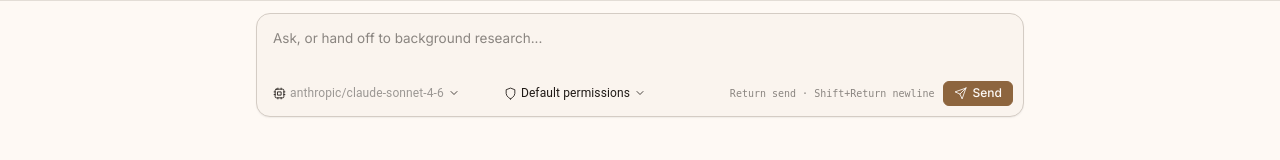
Scenario: MessageInput › renders the approval-level selector and sends the update payload
This screenshot has width=1280, height=160.
Press the mouse on the dropdown named "Approval level" at coordinates (575, 93), box [504, 86, 646, 100]
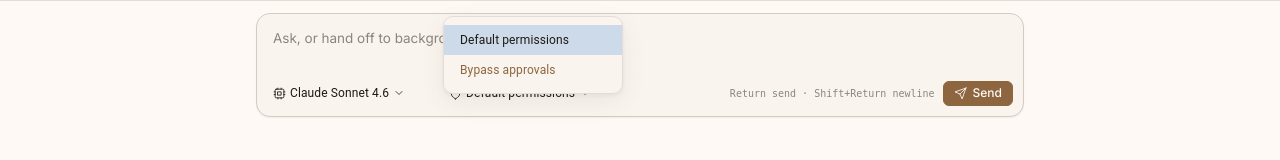
Click the option "Bypass approvals".
click(508, 70)  # box [460, 63, 556, 77]
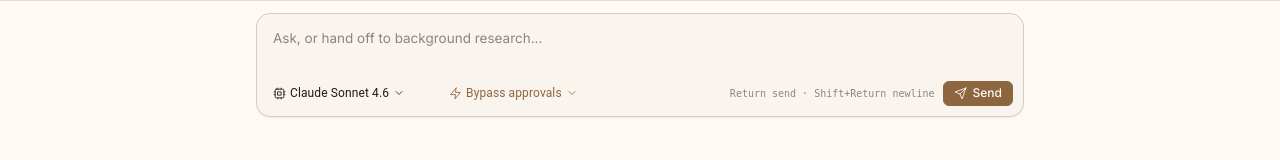
Now the dropdown named "Approval level" reads "Bypass approvals", box [449, 86, 578, 100]
